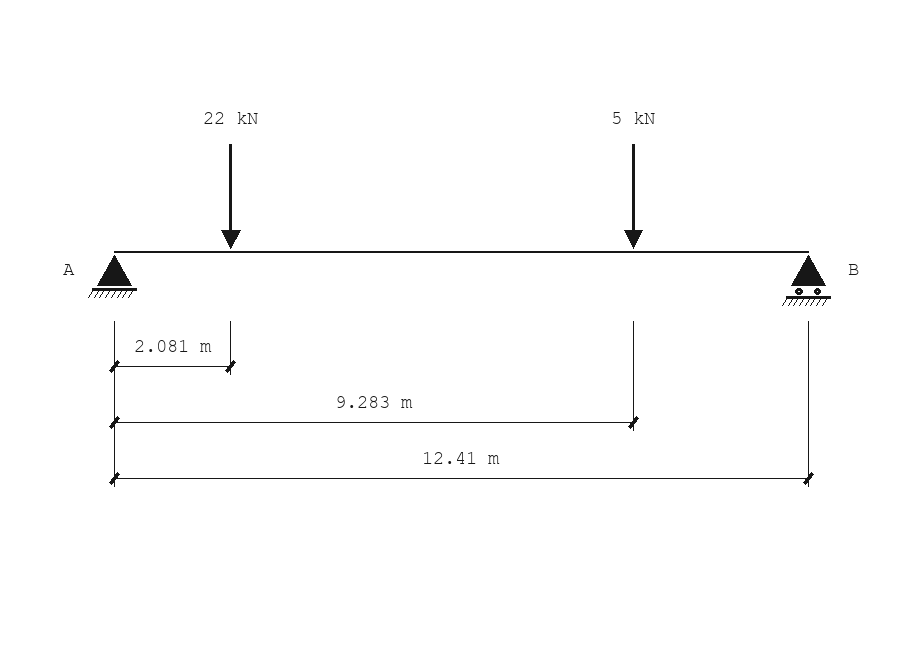pin_support: (88, 255, 137, 298)
point_load: (221, 144, 241, 249), (624, 144, 643, 249)
roller_support: (782, 255, 831, 306)
